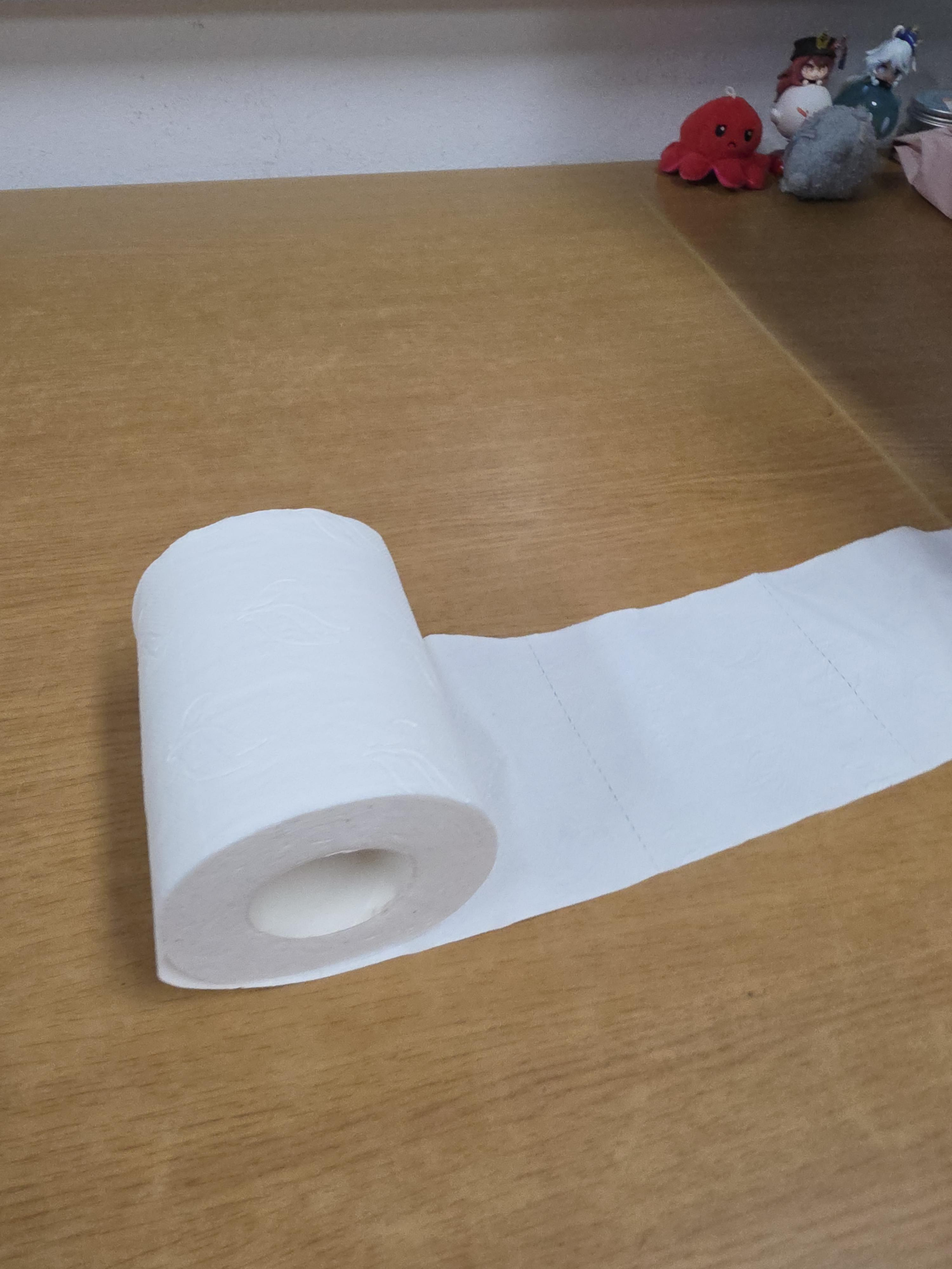tissue: (131, 508, 951, 990)
